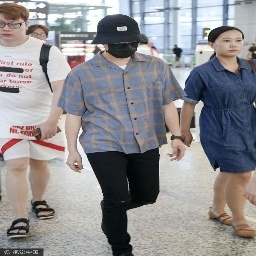correctlyWear: (104, 34, 138, 58)
noWear: (207, 32, 243, 55), (1, 14, 27, 42), (29, 30, 47, 41)
